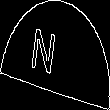N_S: (40, 26, 70, 84)
